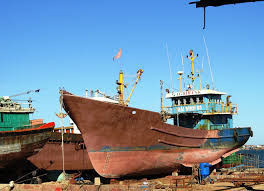tau_dansu: (57, 69, 246, 171)
